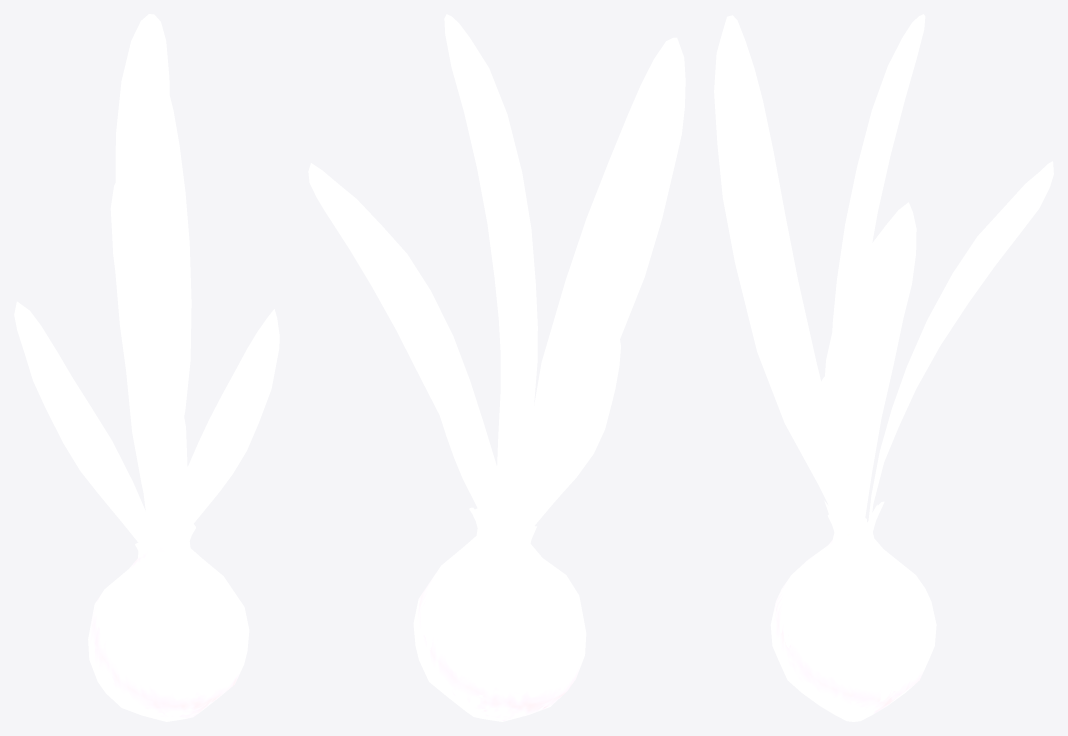
3 views of the same model, side by side, from view 1: azimuth 30°, elevation 25°; view 2: azimuth 150°, elevation 25°; view 3: azimuth 270°, elevation 25° (orthographic). The views are drawn at different scales.
Parts seen in each view (by area): view 1: SM_Onion_Plant_Dead_01_LOD0; view 2: SM_Onion_Plant_Dead_01_LOD0; view 3: SM_Onion_Plant_Dead_01_LOD0.
Boxes of the visible parts, <box> form: SM_Onion_Plant_Dead_01_LOD0: <box>14,14,279,721</box>; SM_Onion_Plant_Dead_01_LOD0: <box>308,14,685,721</box>; SM_Onion_Plant_Dead_01_LOD0: <box>714,14,1053,721</box>.
Size of the model in its own units: 0.3686 by 1.03 by 0.4479.
1 material, 1 textured.
